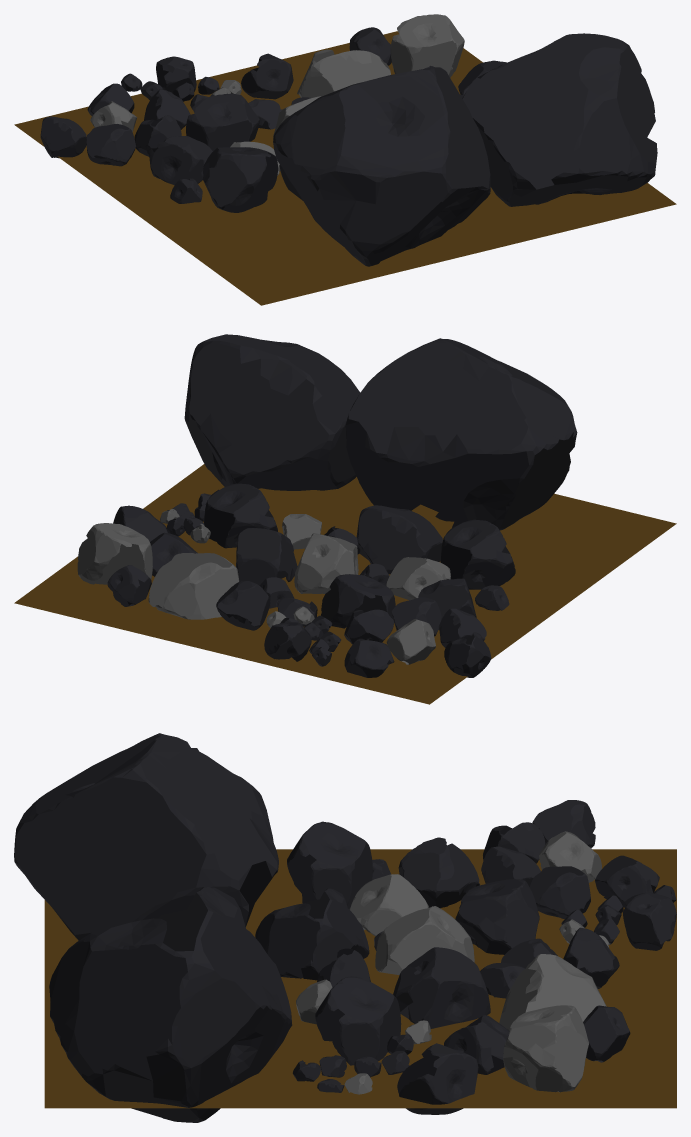
Rendered from grote stenenfbx.fbx.
The picture shows the model from 3 angles, top to bottom: view 1: azimuth 30°, elevation 25°; view 2: azimuth 150°, elevation 25°; view 3: azimuth 270°, elevation 25°; orthographic projection. The views are drawn at different scales.
Parts seen in each view (by area): view 1: Plane; view 2: Plane; view 3: Plane.
Boxes of the visible parts, x1,y1,x2,y2 form: Plane: (14, 14, 676, 305); Plane: (14, 334, 676, 704); Plane: (14, 733, 676, 1122).
Size of the model in its own units: 1.09 by 0.45 by 1.08.
